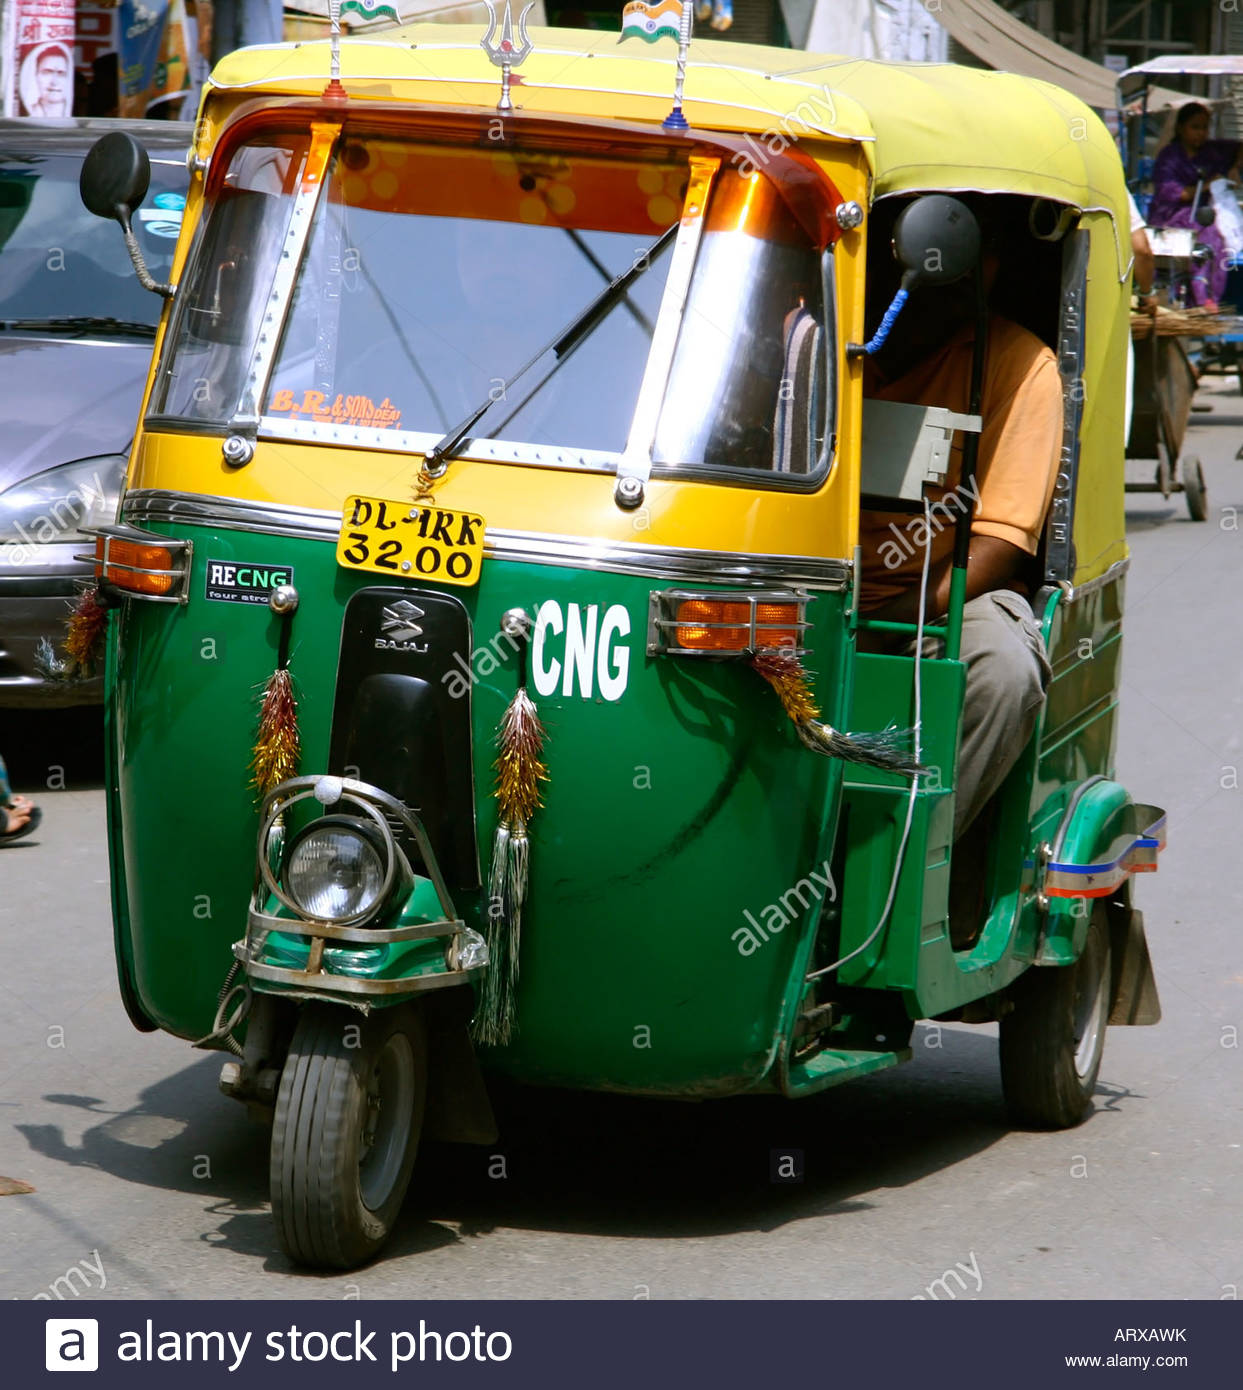doublelinenumberplate: (331, 490, 487, 588)
